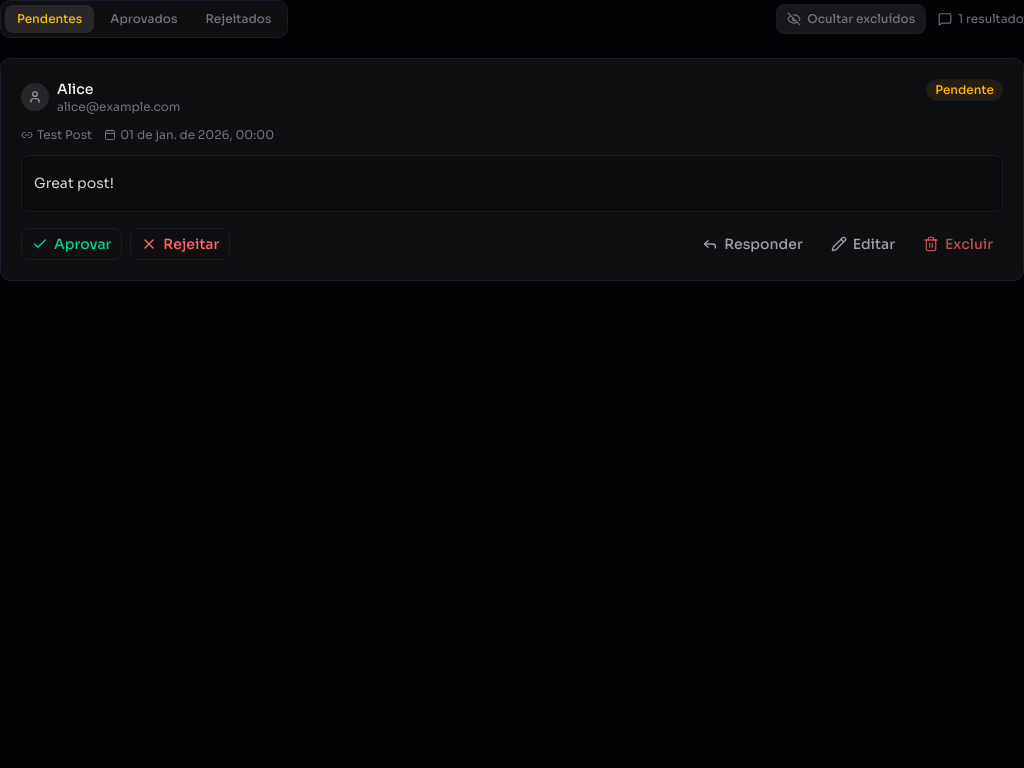
Test: CommentModerator › opens the reply dialog when the Responder button is clicked
Click the button "Responder". click: (752, 244)
box: [692,228,813,260]
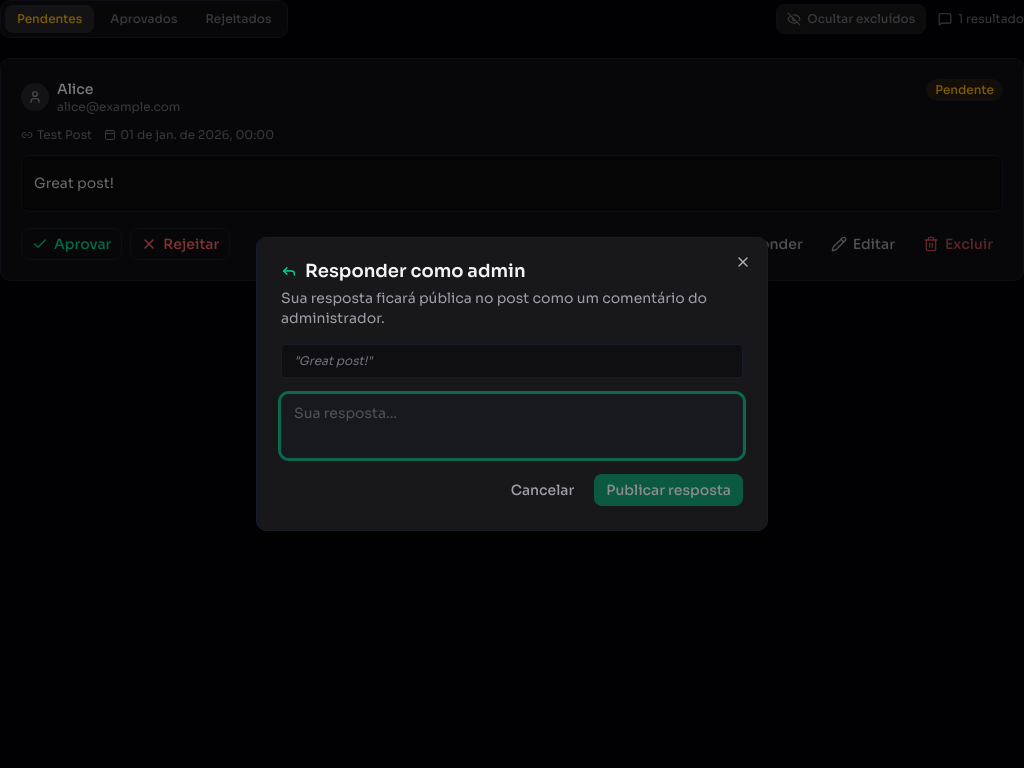
expect the dialog is shown: met, box [256,237,768,531]
expect the heading "Responder como admin" is shown: met, box [281,260,526,282]
